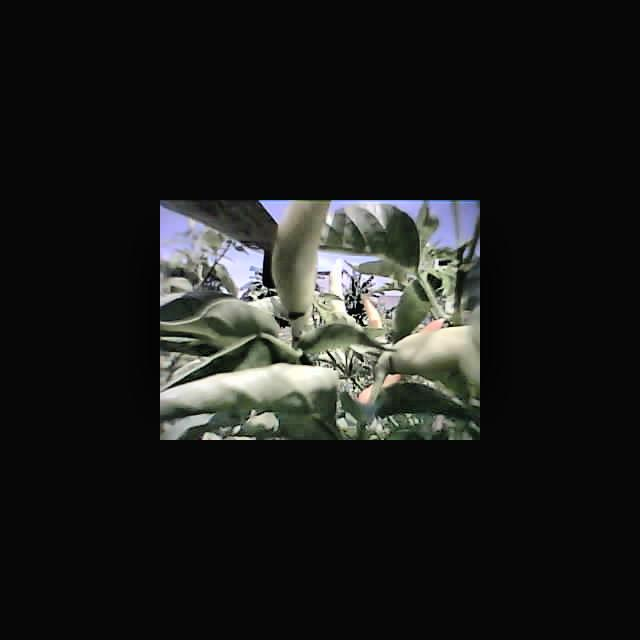Cabai: (359, 295, 395, 335)
